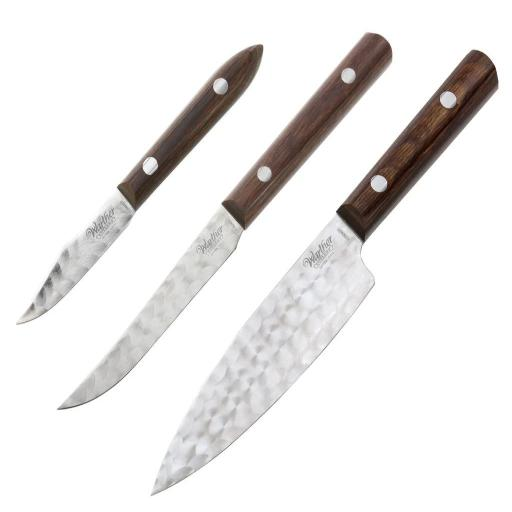knife: (134, 48, 508, 506)
